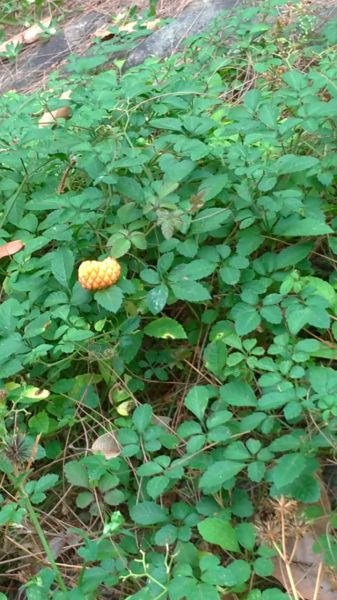eggs: (72, 251, 125, 293)
